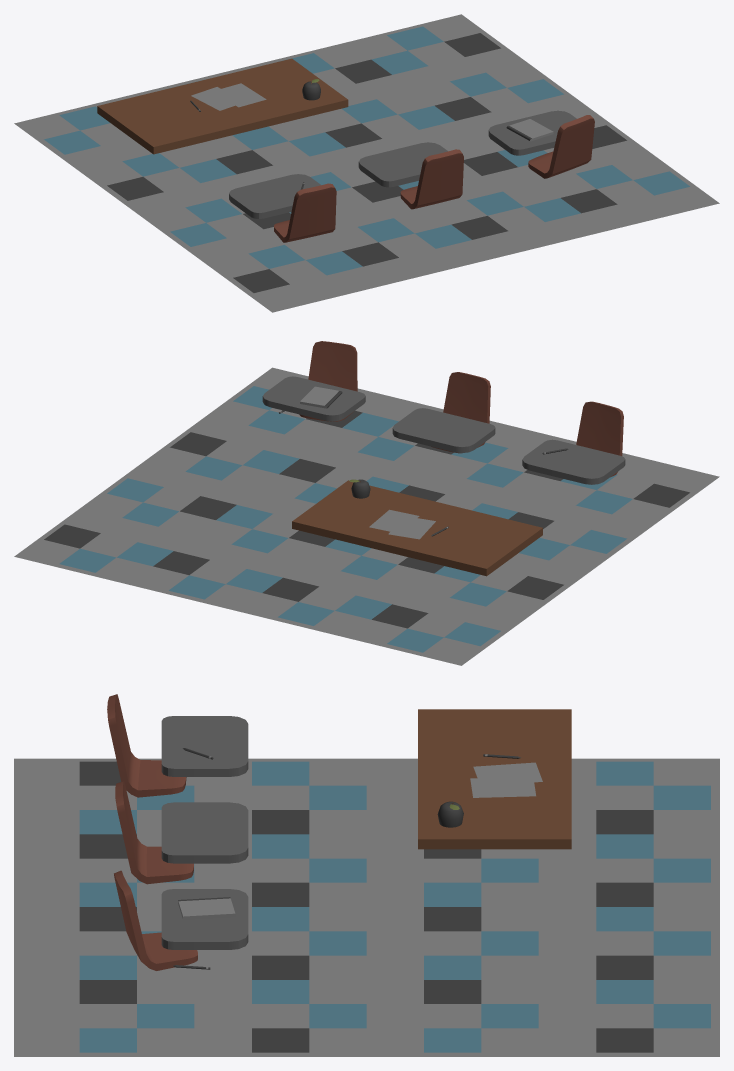
File: Help_Scene.fbx
3 renders of one model, top to bottom at view 1: azimuth 30°, elevation 25°; view 2: azimuth 150°, elevation 25°; view 3: azimuth 270°, elevation 25°, orthographic. The views are drawn at different scales.
Parts seen in each view (by area): view 1: pPlane110; view 2: pPlane110; view 3: pPlane110.
Boxes of the visible parts, box(x1,y1,x2,y2) form: pPlane110: box(14, 14, 719, 312); pPlane110: box(14, 341, 719, 665); pPlane110: box(14, 694, 719, 1056).
Size of the model in its own units: 13.79 by 2.34 by 13.79.
